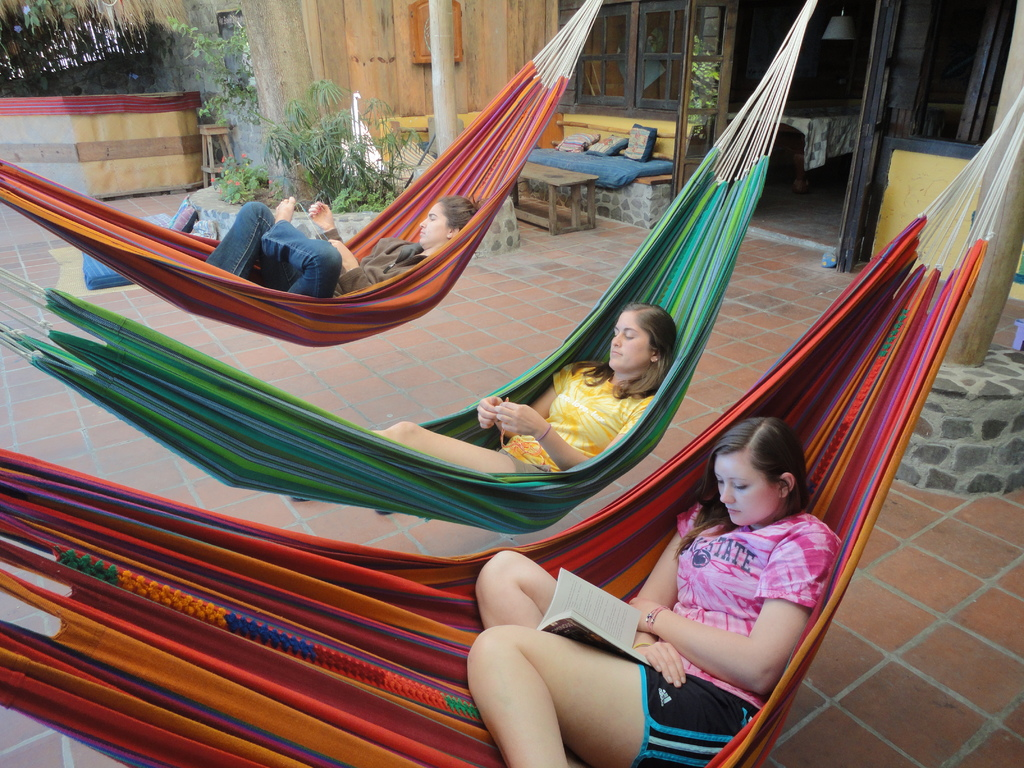person: (475, 301, 679, 473)
